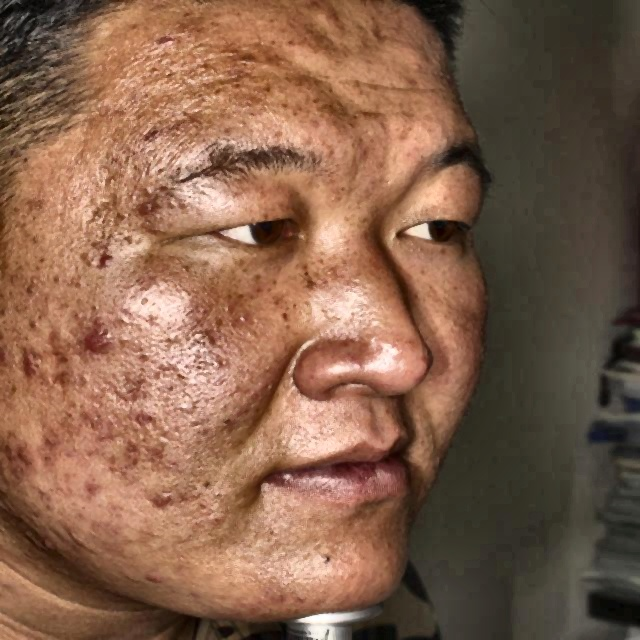pustule: (77, 322, 121, 366), (16, 341, 49, 383), (148, 483, 170, 519), (54, 362, 77, 392), (13, 444, 35, 475), (79, 473, 100, 505), (41, 429, 62, 454), (141, 564, 161, 590), (53, 330, 68, 362)
